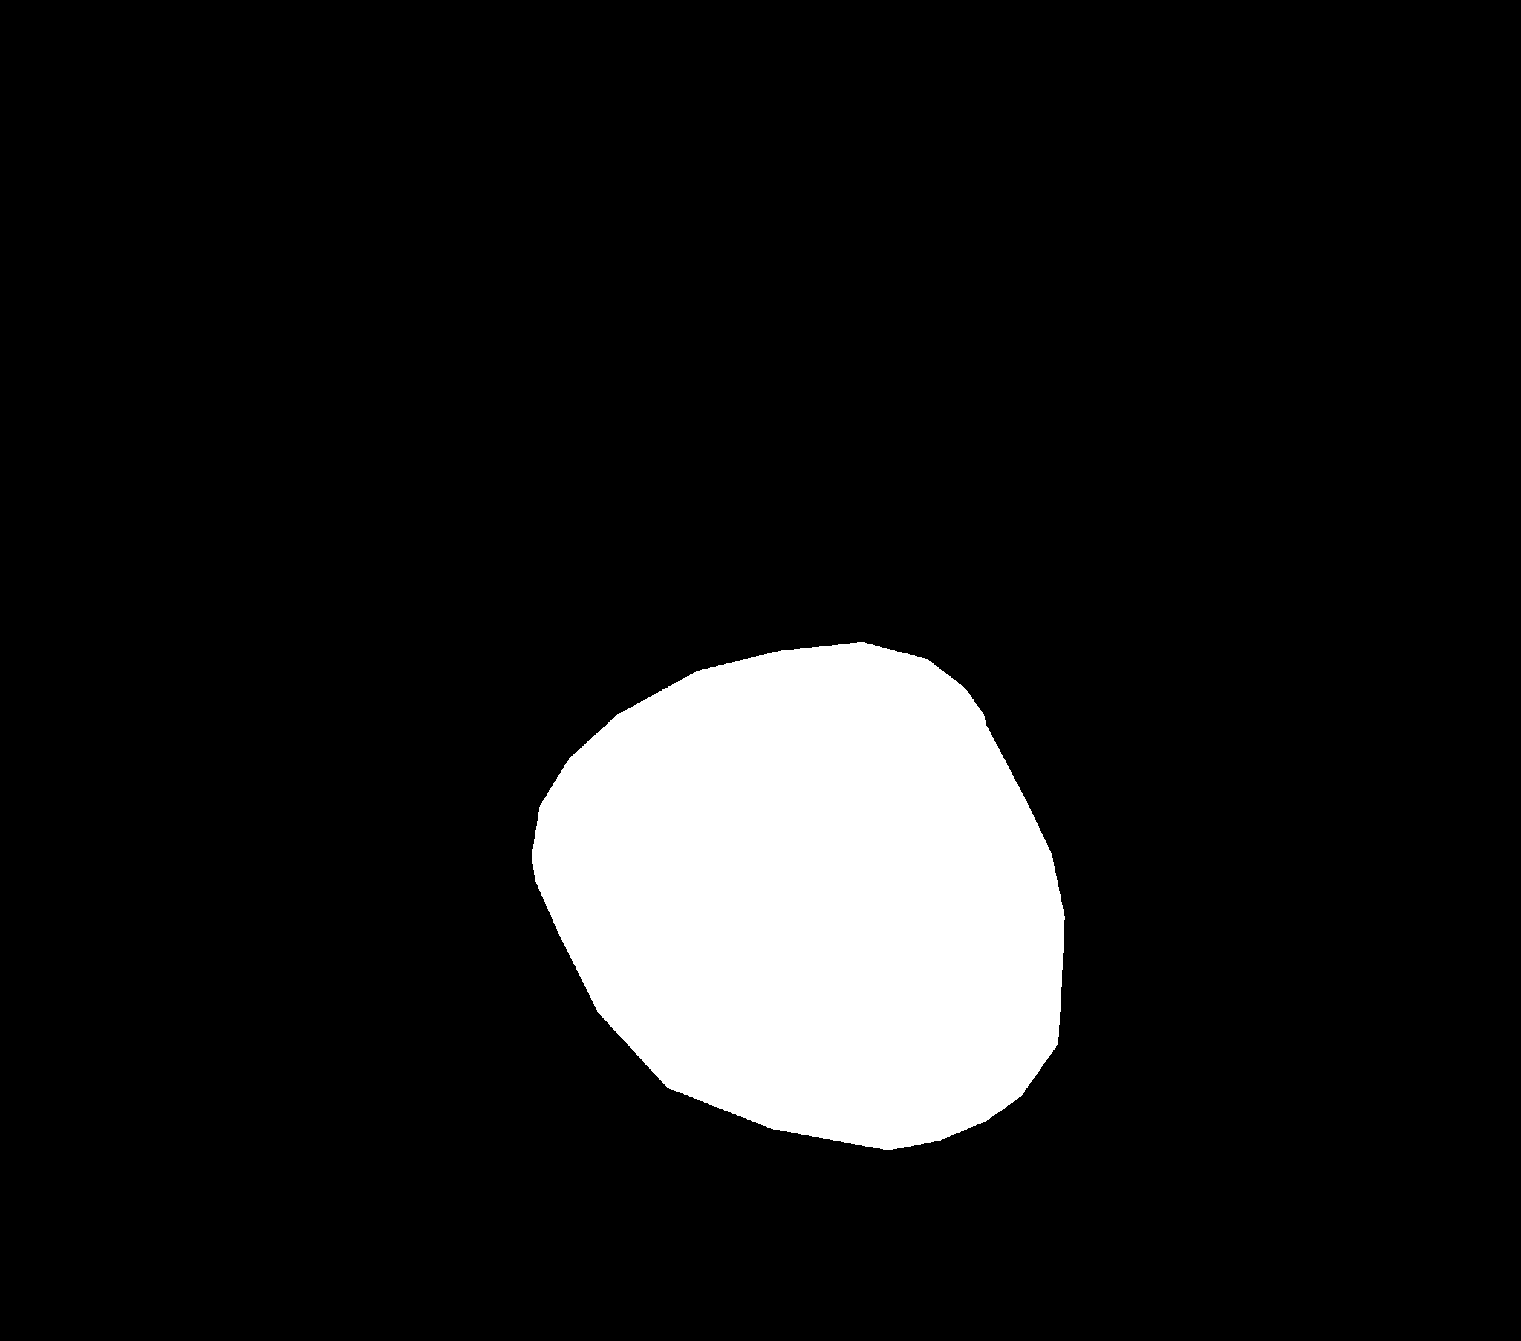heart: (533, 683, 1058, 1142)
left_lung: (153, 283, 721, 953)
right_lung: (760, 355, 1219, 1114)
